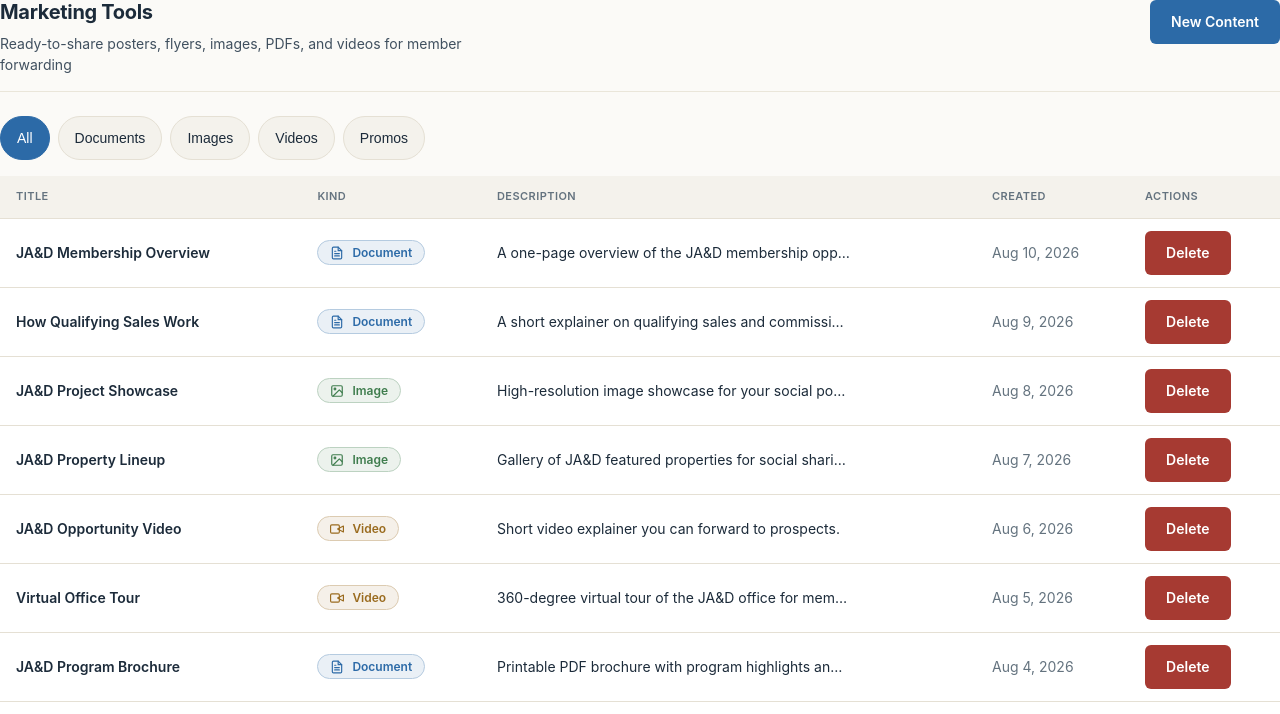
Scenario: ContentPage › opens New Content dialog with required file field and multi-select
The width and height of the screenshot is (1280, 714).
Check: the link "JA&D Membership Overview" is shown, box [16,244,210,261]
Click the button "New Content" at (1215,22), box [1150,0,1279,44]
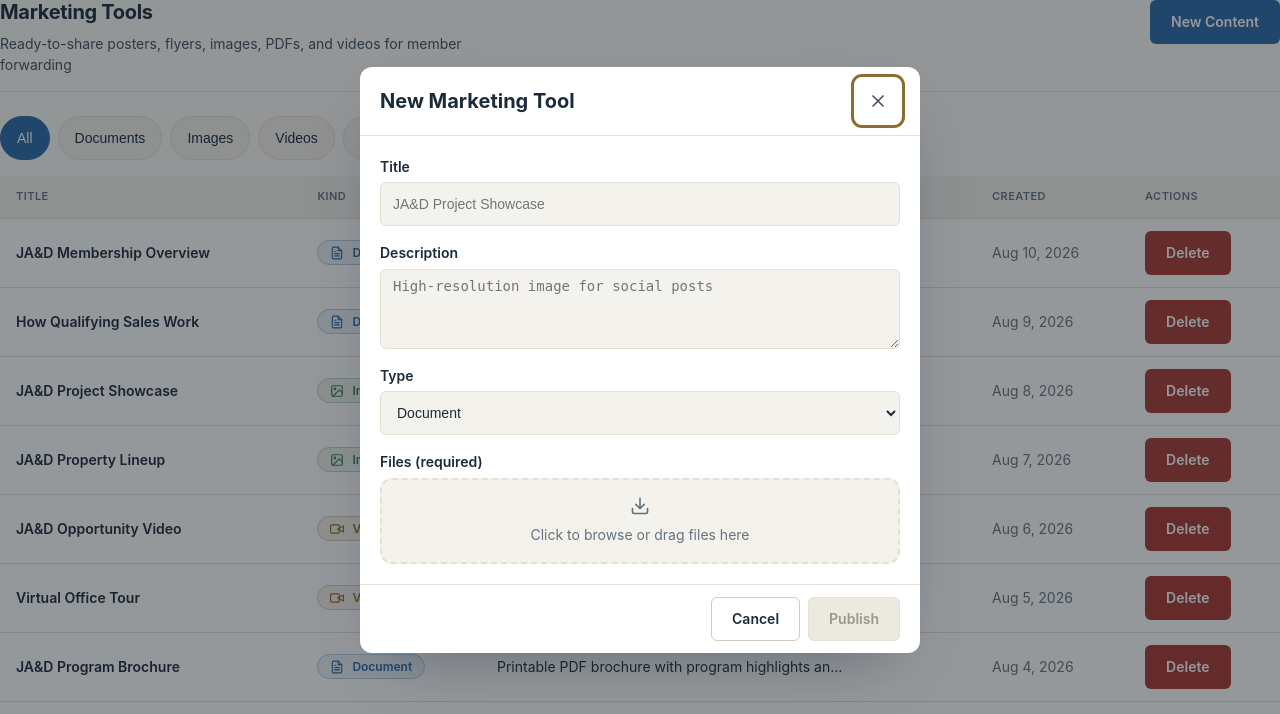
Check: the heading "New Marketing Tool" is shown, box [380,85,575,117]
Check: the field labelled "Title" is shown, box [380,182,900,226]
Check: the text box labelled "Description" is shown, box [380,269,900,349]
